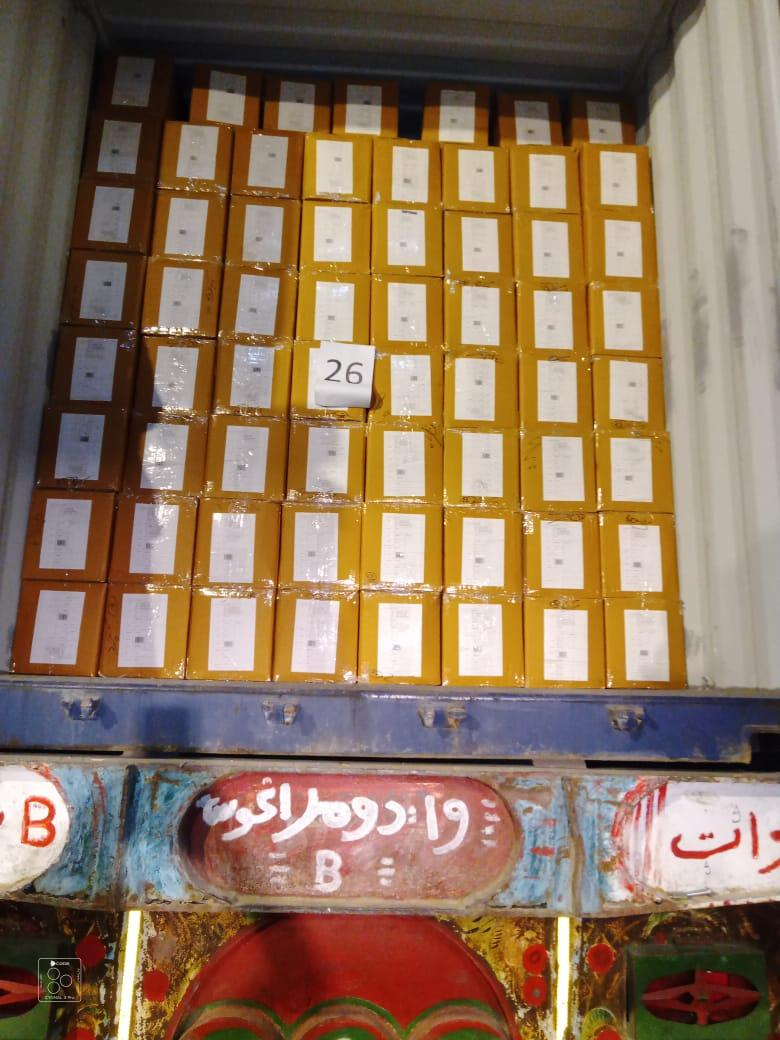carton: (11, 581, 105, 677), (99, 582, 191, 679), (185, 586, 275, 683), (21, 488, 114, 581), (36, 402, 128, 491), (108, 492, 196, 584), (272, 589, 359, 682), (358, 589, 441, 685), (193, 498, 281, 588), (441, 593, 524, 688), (523, 594, 605, 690), (603, 597, 686, 689), (278, 500, 362, 589), (204, 413, 289, 500), (359, 502, 442, 591), (123, 410, 207, 497), (49, 324, 137, 407), (597, 511, 679, 597), (59, 250, 146, 330), (443, 507, 522, 594), (134, 334, 216, 417), (521, 511, 600, 596), (140, 256, 221, 338), (594, 428, 673, 512), (213, 334, 292, 418), (287, 419, 365, 502), (519, 427, 595, 512), (290, 341, 370, 421), (365, 421, 443, 503), (70, 177, 153, 253), (443, 428, 520, 508), (80, 110, 162, 184), (444, 348, 519, 428), (369, 347, 443, 428), (218, 265, 297, 340), (296, 268, 372, 344), (224, 195, 301, 270), (587, 280, 661, 357), (519, 351, 592, 429), (582, 208, 657, 283), (151, 189, 227, 263), (95, 52, 178, 119), (591, 354, 665, 428), (370, 201, 442, 277), (370, 273, 442, 349), (515, 280, 587, 353), (299, 199, 371, 272), (158, 120, 231, 192), (443, 277, 515, 349), (512, 211, 585, 282), (231, 127, 304, 198), (301, 133, 372, 203), (578, 143, 651, 210), (508, 145, 581, 212), (443, 210, 512, 279), (371, 136, 439, 205), (440, 144, 508, 211), (420, 80, 488, 144), (190, 65, 257, 129), (331, 76, 399, 136), (263, 75, 331, 132), (496, 90, 563, 146), (567, 91, 634, 146)
